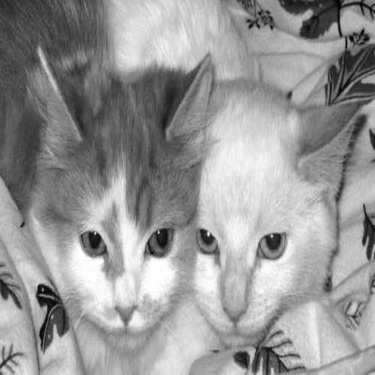cat: (21, 46, 229, 373), (186, 67, 368, 351)
